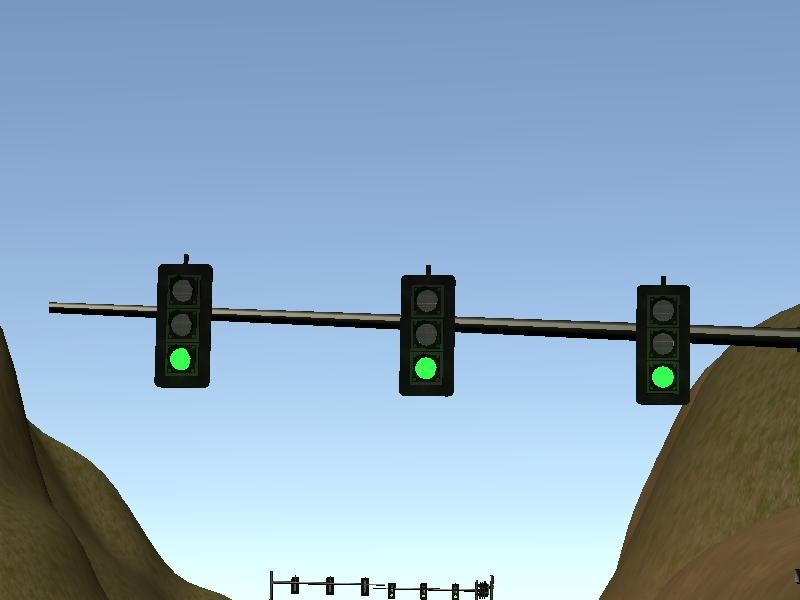GREEN: (152, 264, 213, 387), (637, 286, 691, 406), (400, 276, 454, 396)
